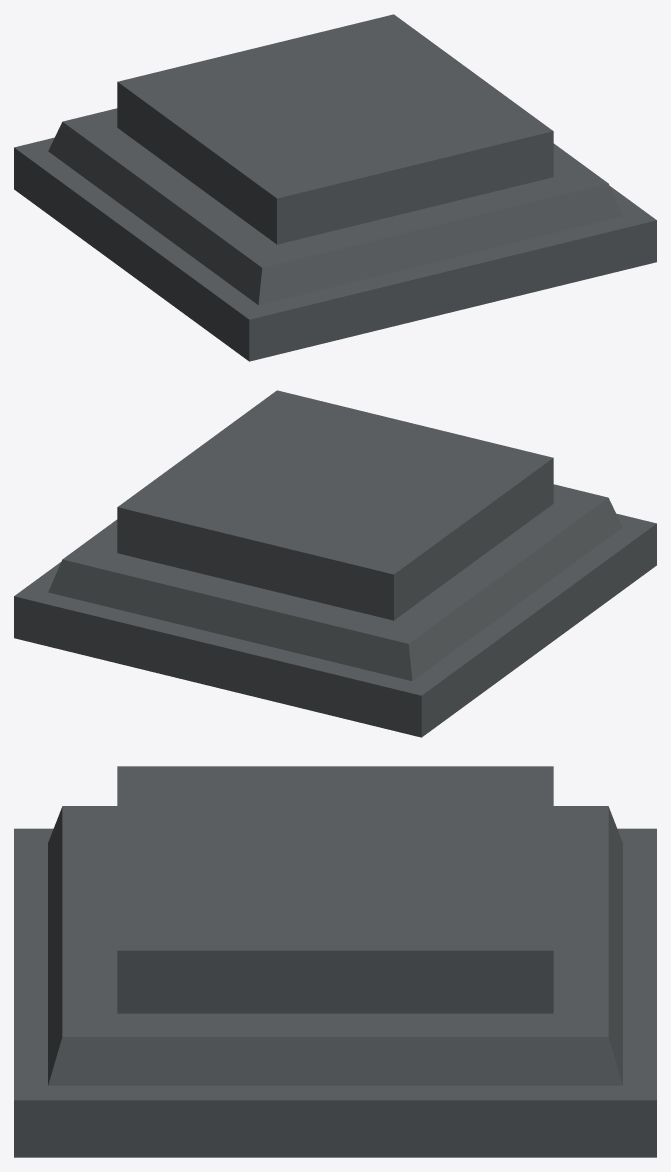
Rendered from PedestalLarge.glb.
3 renders of one model, top to bottom at view 1: azimuth 30°, elevation 25°; view 2: azimuth 150°, elevation 25°; view 3: azimuth 270°, elevation 25°, orthographic. The views are drawn at different scales.
Visible parts, largest first — view 1: Pedestal2; view 2: Pedestal2; view 3: Pedestal2.
Boxes of the visible parts, <box> form: Pedestal2: <box>14,14,656,361</box>; Pedestal2: <box>14,390,656,737</box>; Pedestal2: <box>14,766,656,1157</box>.
Size of the model in its own units: 1.5 by 0.4196 by 1.5.
Materials: 1 (1 with a texture image).
